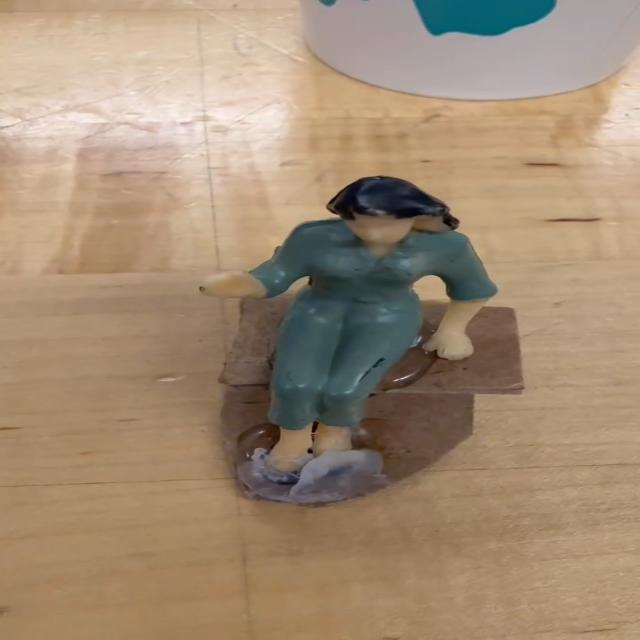Authorized: (171, 159, 501, 481)
